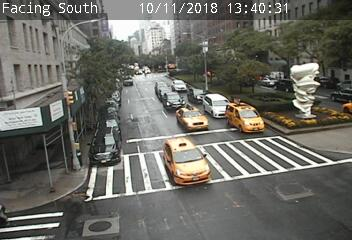car: (164, 138, 210, 184), (226, 102, 265, 134), (89, 127, 119, 165), (176, 107, 208, 131), (204, 93, 232, 119), (163, 91, 185, 111), (187, 87, 210, 104), (274, 79, 300, 92), (158, 87, 173, 102), (258, 77, 279, 87), (154, 81, 168, 96), (171, 79, 187, 92)
